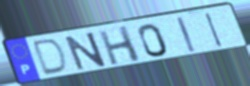0: (135, 22, 170, 58)
D: (32, 38, 70, 78)
H: (97, 24, 143, 66)
I: (175, 16, 197, 54), (204, 11, 225, 49)
N: (63, 31, 109, 73)
